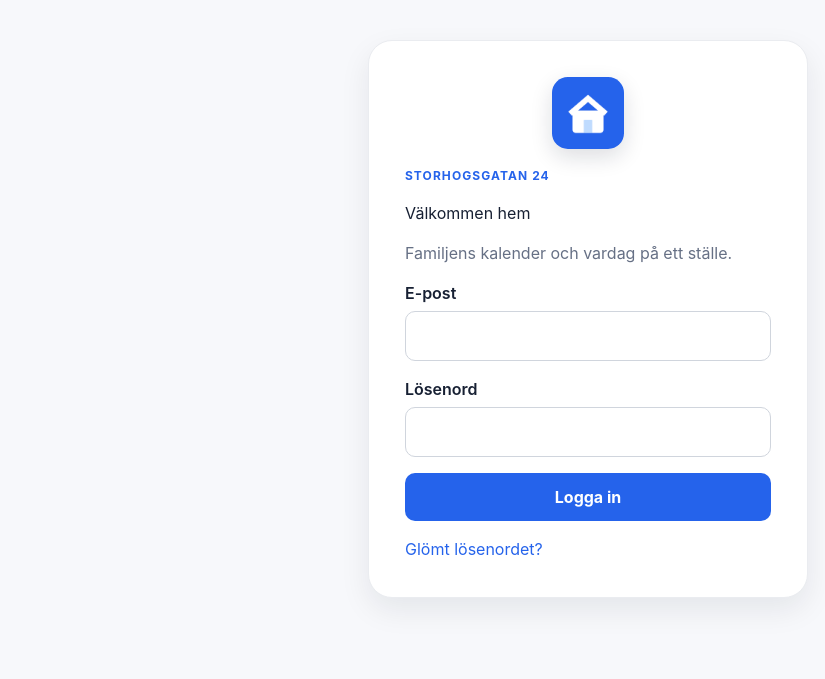
Test case: osparad logininformation › rensar dirty-status vid lyckad login utan att lagra inloggningsvärden
The image size is (825, 679).
Step 1. Type "person@example.test" into the field labelled "E-post" → (588,336), box [405,311,771,361]
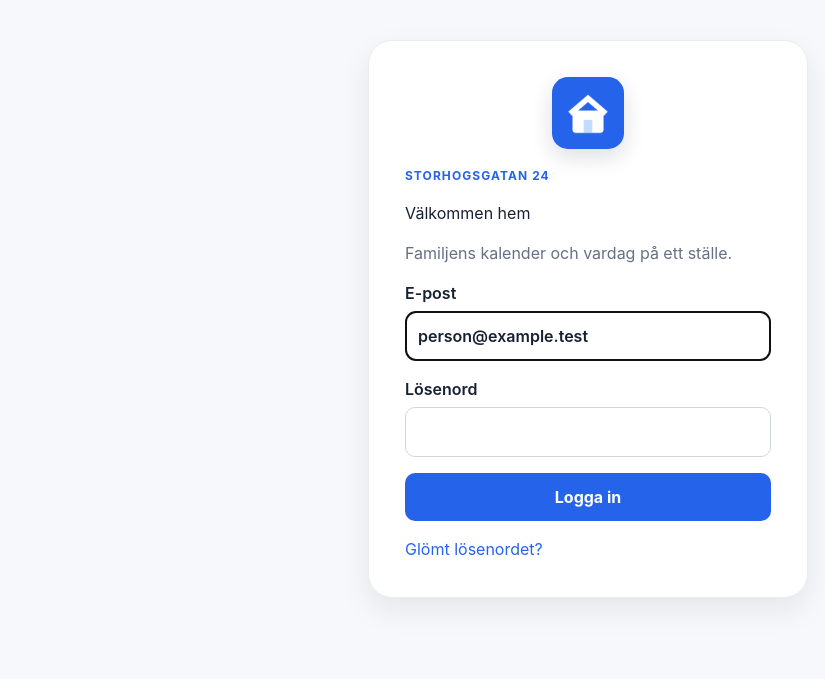
Step 2. Type "inte-lagra-detta" into the password field labelled "Lösenord" → (588,432), box [405,407,771,457]
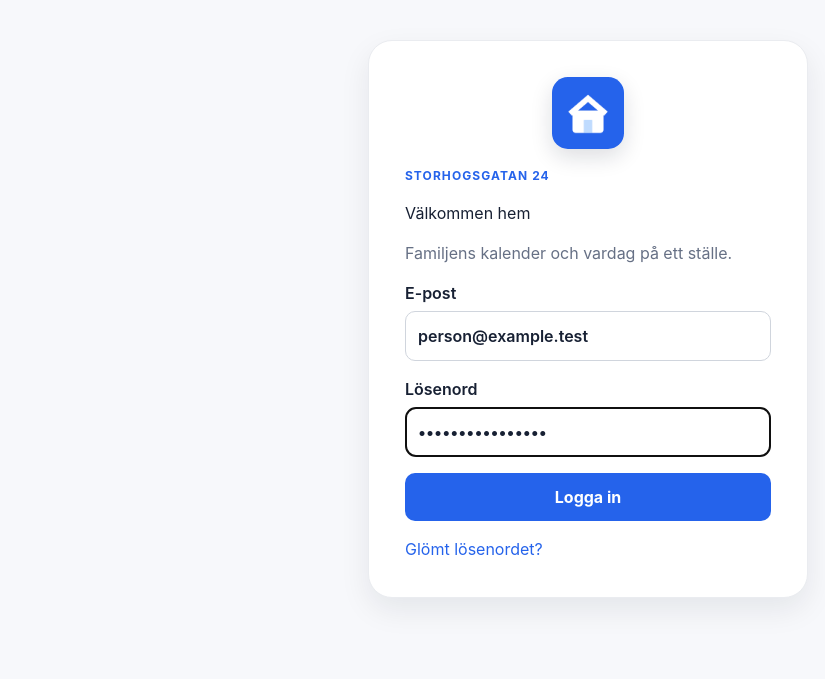
Step 3. Click the button "Logga in" → (588,497), box [405,473,771,521]
(page scrolled)
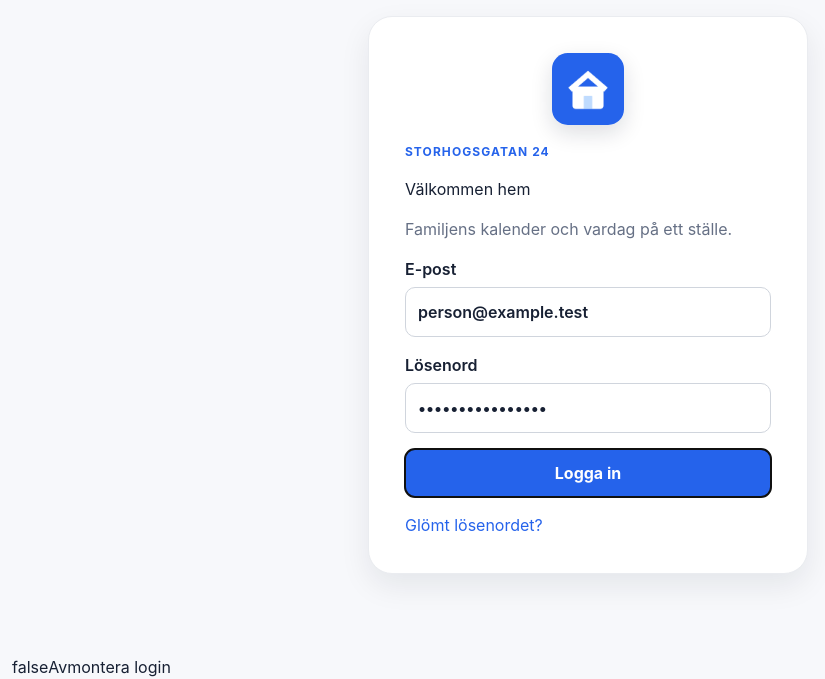
Expected: the text named "dirty-status" reads "false", [12,657,48,677]
